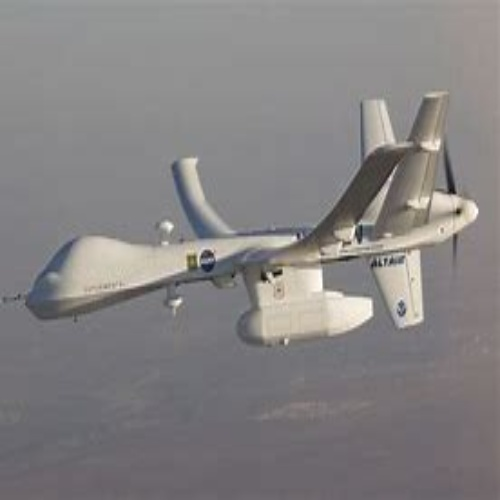uav: (11, 91, 483, 346)
